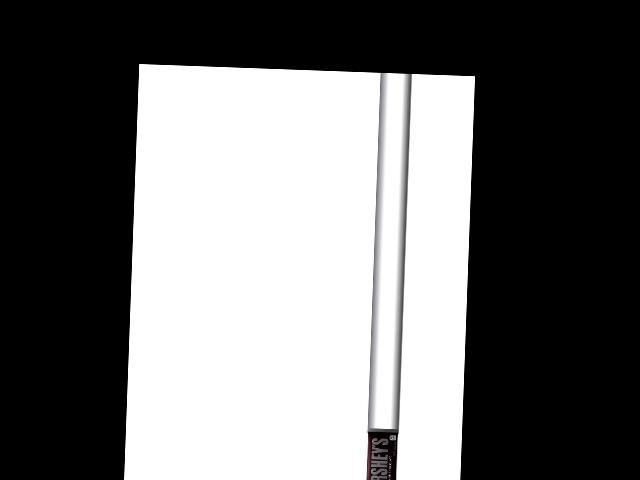chocolate: (366, 428, 402, 480)
